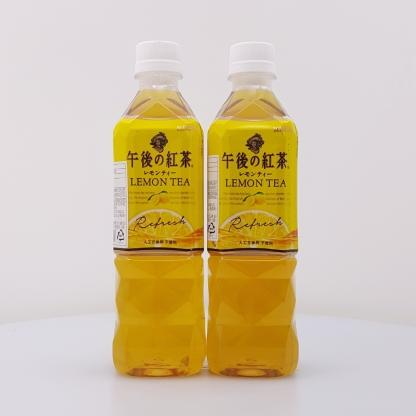--------------500ml: (112, 39, 207, 376), (206, 39, 300, 378)
